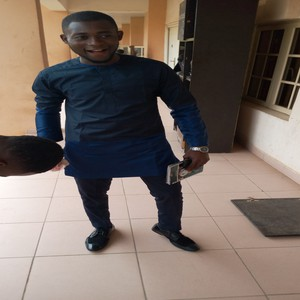Fulokoja_male_student: (40, 12, 198, 253)
